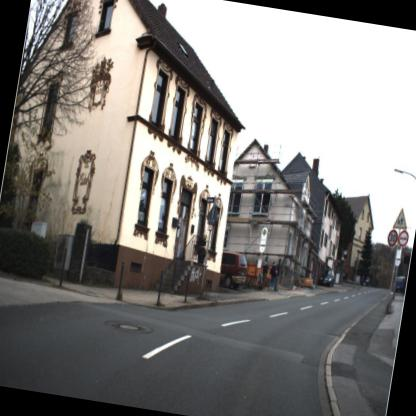danger: (388, 202, 410, 231)
prohibitory: (396, 230, 412, 249), (387, 228, 398, 246)
